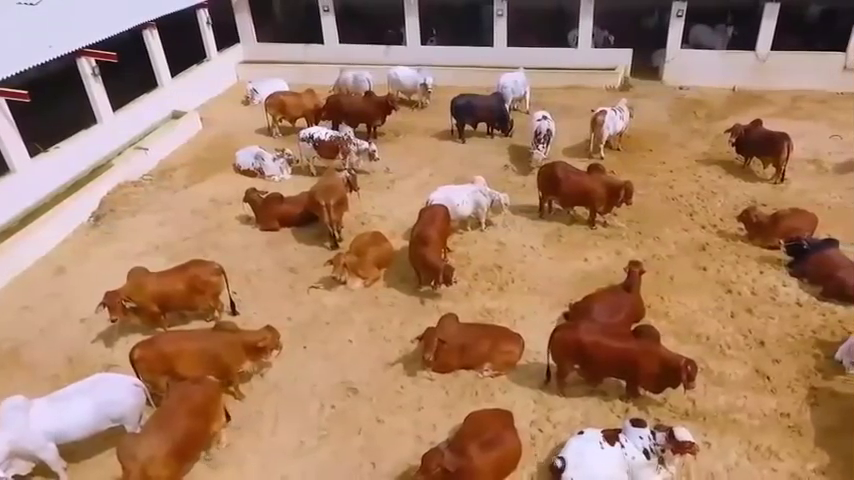bo: (5, 362, 154, 477), (542, 307, 702, 412), (535, 392, 701, 478), (127, 315, 286, 398), (117, 371, 232, 480), (90, 250, 234, 335), (412, 302, 527, 385), (534, 151, 634, 234), (415, 397, 520, 476), (563, 259, 666, 327), (776, 224, 851, 308), (717, 112, 800, 186), (404, 202, 466, 299), (324, 219, 394, 299), (575, 80, 641, 163), (298, 115, 382, 180), (428, 165, 508, 227), (307, 155, 362, 243), (235, 174, 308, 239), (727, 194, 820, 245), (443, 87, 521, 146), (218, 134, 300, 189), (314, 82, 400, 130), (485, 48, 544, 112), (379, 46, 438, 106), (556, 9, 626, 59), (261, 81, 325, 131), (515, 101, 560, 166), (230, 61, 286, 111), (676, 12, 737, 56), (317, 46, 373, 91)
